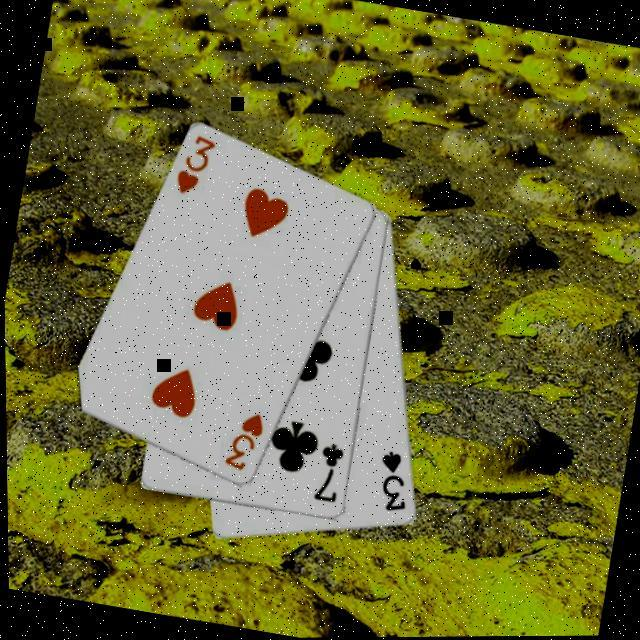3H: (167, 127, 218, 199), (216, 404, 267, 474)
3S: (367, 444, 415, 514)
7C: (306, 438, 346, 506)
